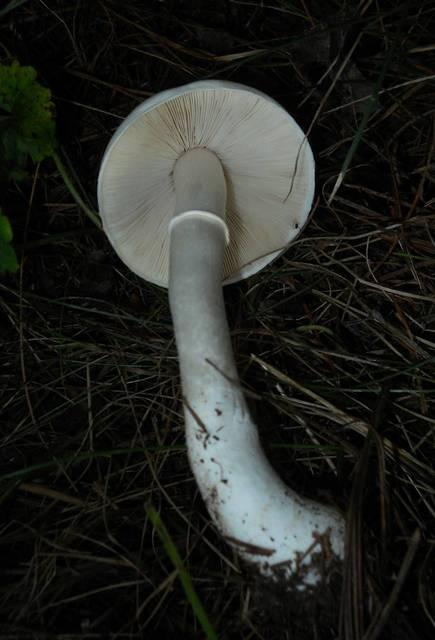Non-edible Mushroom: (95, 77, 350, 595)
